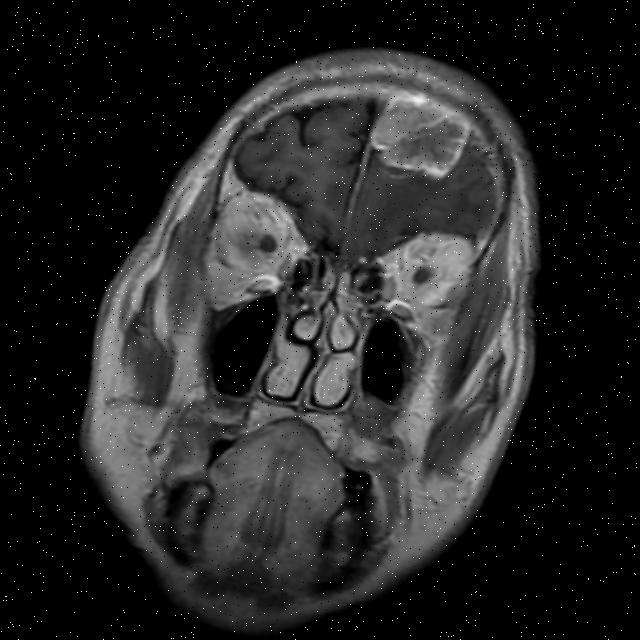Meningioma: (358, 82, 484, 188)
